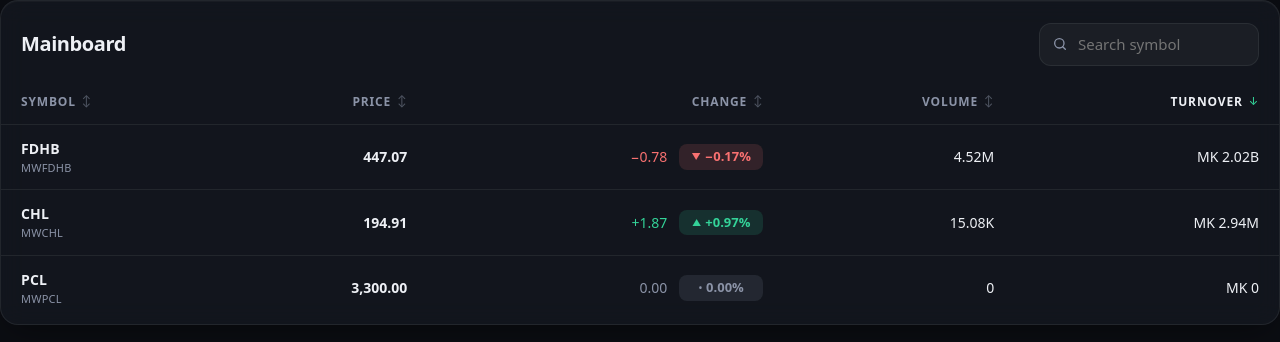
Test: MarketTable › filters by search text
The image size is (1280, 342).
In the search field: (1161,44) [1076,32,1246,56], type "ch"
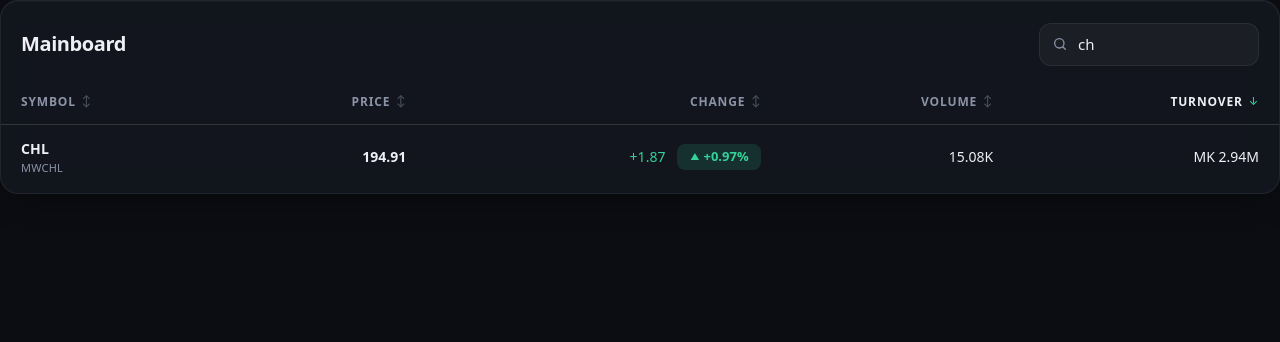
Replace the text in the search field with "zzz": (1161,44) [1076,32,1246,56]
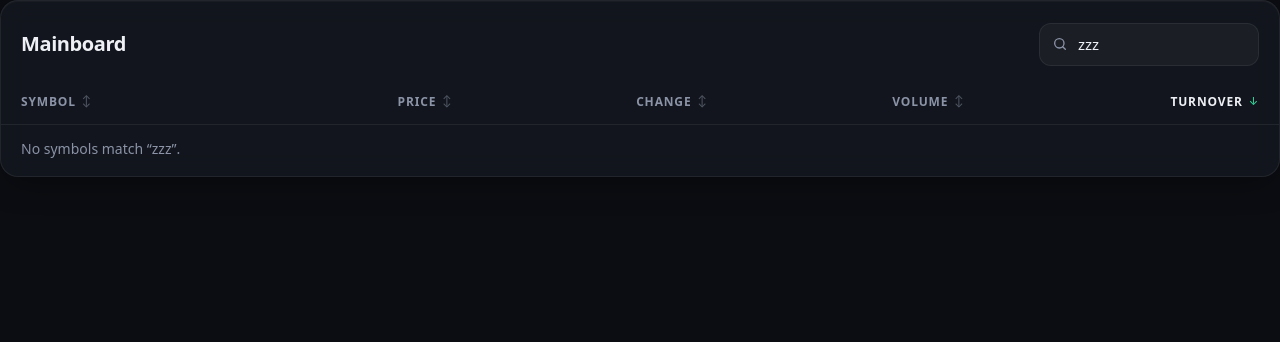
Check: the text "No symbols match “zzz”." is shown, box [1,124,1279,172]
